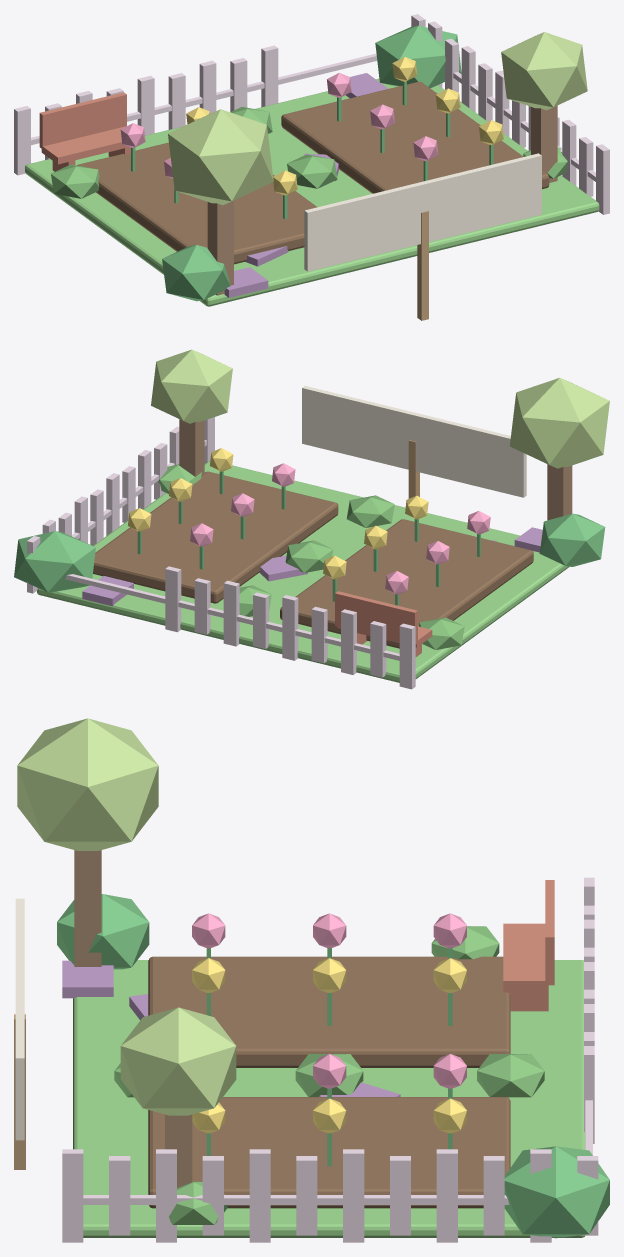
Rendered from kebun_asset.glb.
3 views of the same model, one above another, from view 1: azimuth 30°, elevation 25°; view 2: azimuth 150°, elevation 25°; view 3: azimuth 270°, elevation 25° (orthographic). The views are drawn at different scales.
Visible parts, largest first — view 1: kb_alas, kb_papan_bg, kb_bedengan_1, kb_bedengan_0, kb_pohon_1_daun, kb_pohon_2_daun, kb_semak_1, kb_bangku_sandaran, kb_semak_2, kb_pohon_1_batang, kb_bangku_dudukan, kb_pagar_rail_b (+31 smaller); view 2: kb_bedengan_1, kb_alas, kb_papan_bg, kb_bedengan_0, kb_pohon_1_daun, kb_pohon_2_daun, kb_semak_1, kb_semak_2, kb_bangku_sandaran, kb_pagar_rail_b, kb_pohon_2_batang, kb_pohon_1_batang (+24 smaller); view 3: kb_alas, kb_bedengan_0, kb_bedengan_1, kb_pohon_1_daun, kb_pohon_2_daun, kb_semak_1, kb_semak_2, kb_pohon_1_batang, kb_bangku_dudukan, kb_rumput_1, kb_papan_bg, kb_pagar_rail_r (+30 smaller).
Boxes of the visible parts, x1,y1,x2,y2 form: kb_alas: (25, 78, 599, 306); kb_papan_bg: (304, 153, 541, 271); kb_bedengan_1: (281, 81, 549, 193); kb_bedengan_0: (77, 142, 317, 264); kb_pohon_1_daun: (168, 109, 273, 205); kb_pohon_2_daun: (501, 32, 587, 110); kb_semak_1: (375, 25, 461, 88); kb_bangku_sandaran: (39, 92, 126, 148); kb_semak_2: (162, 245, 230, 301); kb_pohon_1_batang: (207, 200, 233, 295); kb_bangku_dudukan: (41, 126, 128, 164); kb_pagar_rail_b: (31, 53, 377, 145); kb_bedengan_1: (93, 471, 338, 603); kb_alas: (37, 461, 569, 682); kb_papan_bg: (302, 386, 526, 497); kb_bedengan_0: (280, 519, 533, 648); kb_pohon_1_daun: (510, 377, 609, 468); kb_pohon_2_daun: (151, 349, 232, 423); kb_semak_1: (14, 531, 95, 592); kb_semak_2: (539, 513, 605, 566); kb_bangku_sandaran: (335, 591, 417, 644); kb_pagar_rail_b: (65, 574, 399, 660); kb_pohon_2_batang: (179, 419, 204, 476); kb_pohon_1_batang: (547, 464, 572, 520); kb_alas: (73, 960, 585, 1237); kb_bedengan_0: (148, 956, 510, 1067); kb_bedengan_1: (148, 1097, 510, 1208); kb_pohon_1_daun: (17, 718, 158, 850); kb_pohon_2_daun: (120, 1007, 236, 1115); kb_semak_1: (504, 1146, 609, 1238); kb_semak_2: (57, 894, 149, 969); kb_pohon_1_batang: (74, 850, 101, 966); kb_bangku_dudukan: (503, 923, 548, 990); kb_rumput_1: (477, 1054, 544, 1097); kb_papan_bg: (15, 898, 24, 1140); kb_pagar_rail_r: (83, 1195, 509, 1204).
Bounding box in the file's own units: 4.84 × 2.4 × 3.95.
